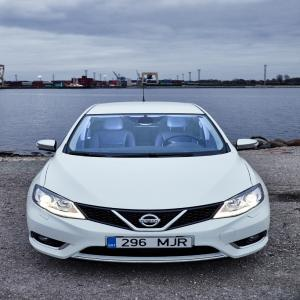Vehicle-registration-plate: (98, 234, 214, 256)
